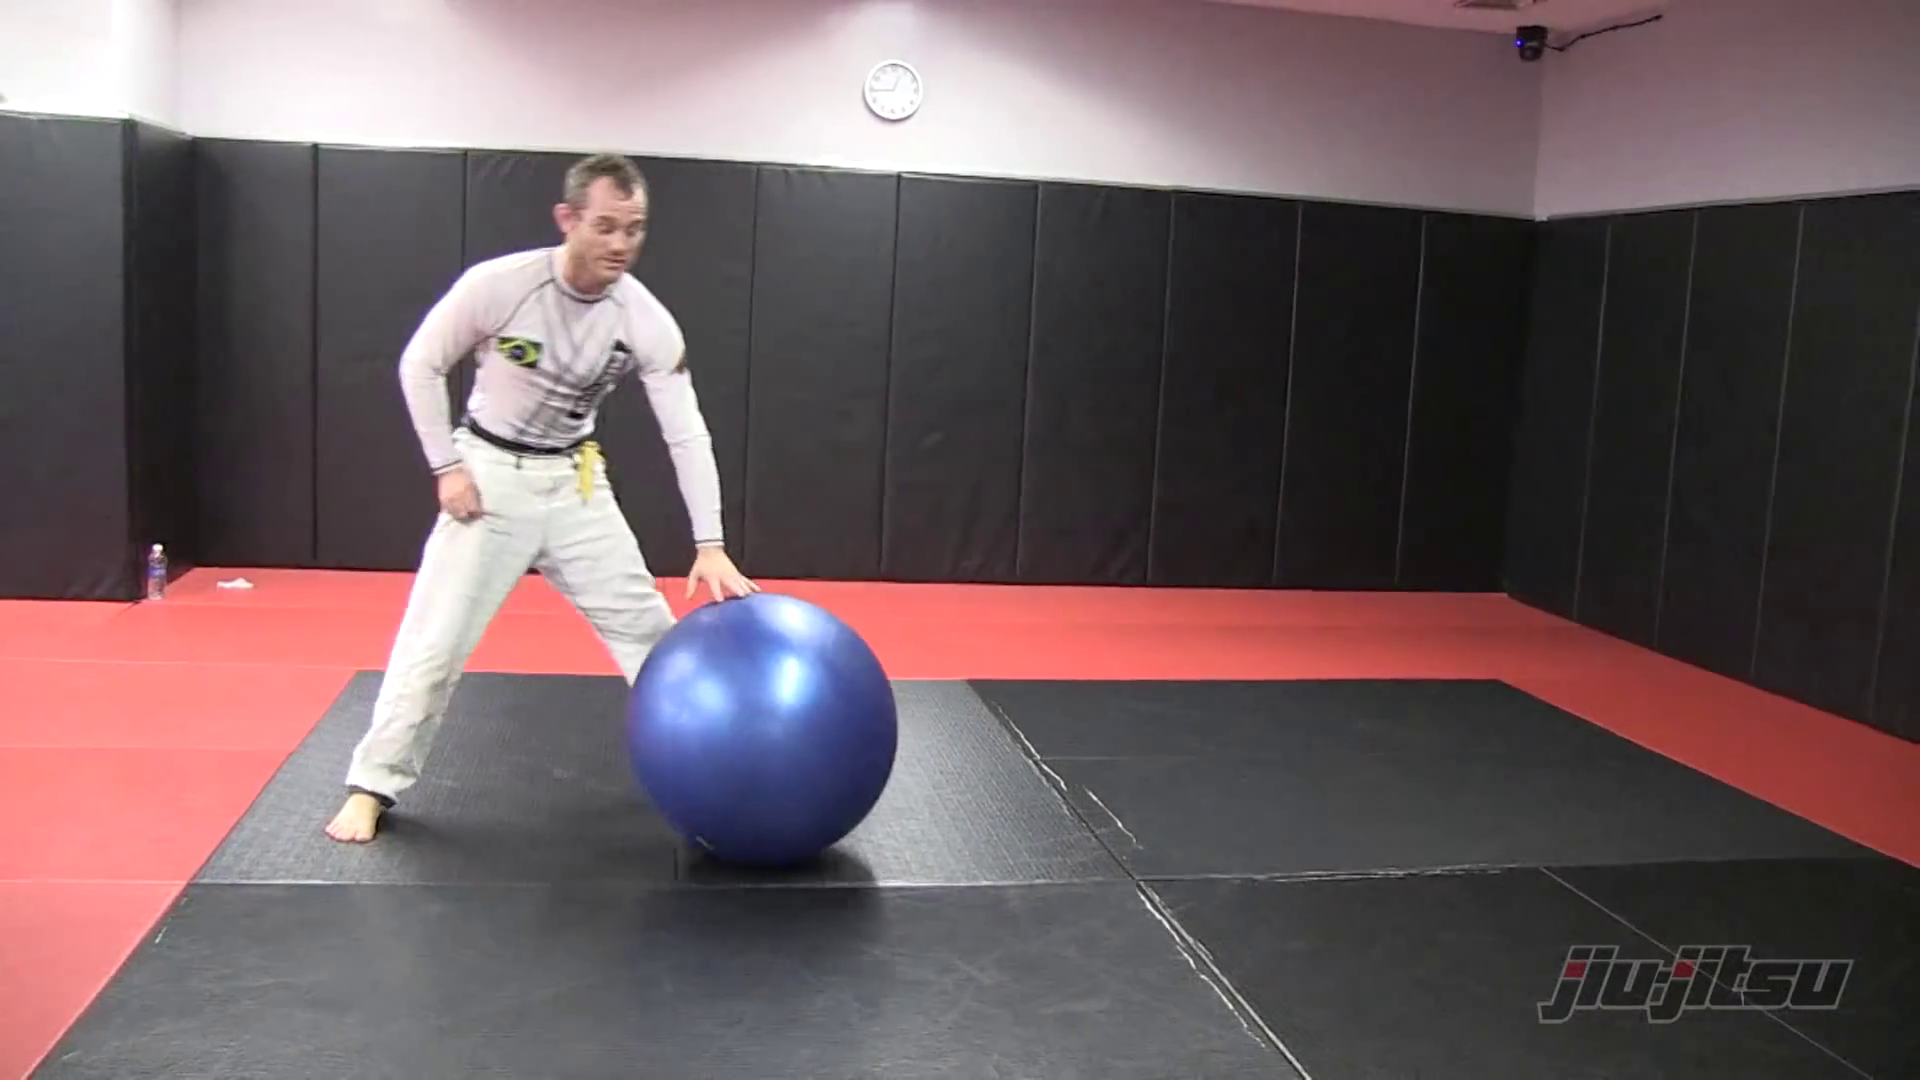yogaball: (615, 582, 935, 889)
